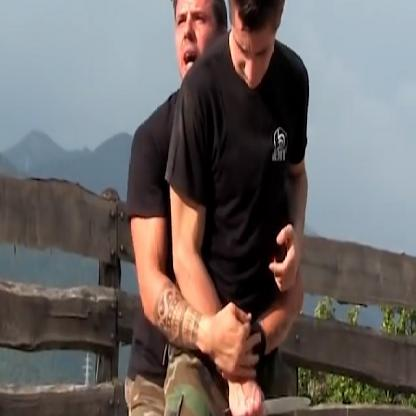knife: (221, 385, 318, 415)
